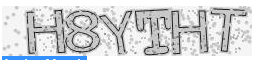8: (64, 9, 100, 53)
H: (171, 9, 209, 56), (26, 10, 66, 54)
T: (134, 8, 171, 56), (210, 7, 248, 53)
Y: (98, 10, 133, 55)
